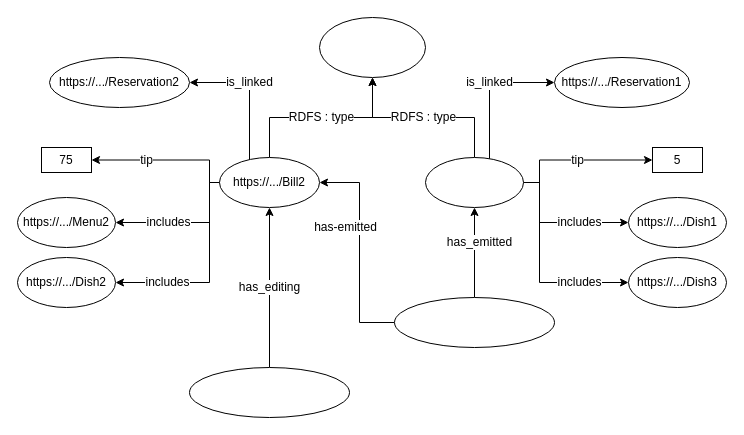
Some shapes in this 744 by 435 pixel diagram are drawn without their labels. The centre of each missing label's shape, as x and y in pixels:
Bill_of_sale: point 372,47
https://.../Bill1: point 474,182
https://.../Nicolas: point 474,322
https://.../Philippe: point 269,392
